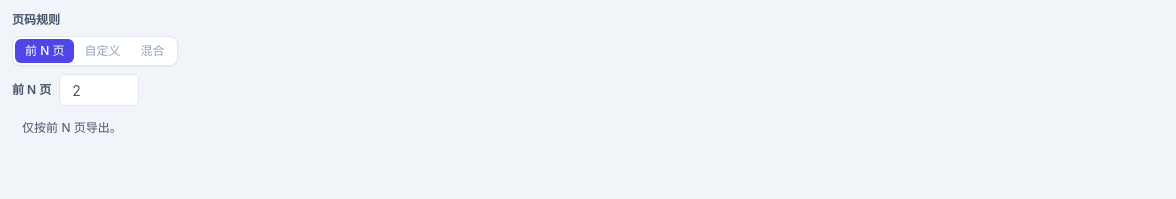
Scenario: PageRuleInput › 三种提示文案随模式切换
Expected: the text "仅按前 N 页导出。" is shown, [12,114,1164,142]
Click the button "自定义". click: (102, 51)
box: [74,39,130,63]
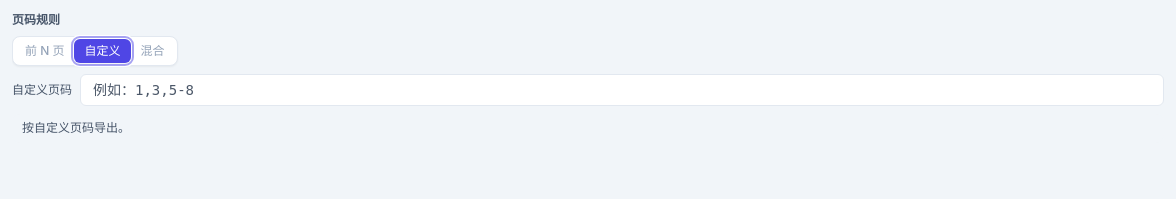
Expected: the text "按自定义页码导出。" is shown, [12,114,1164,142]
Click the button "混合". click: (152, 51)
box: [130,39,174,63]
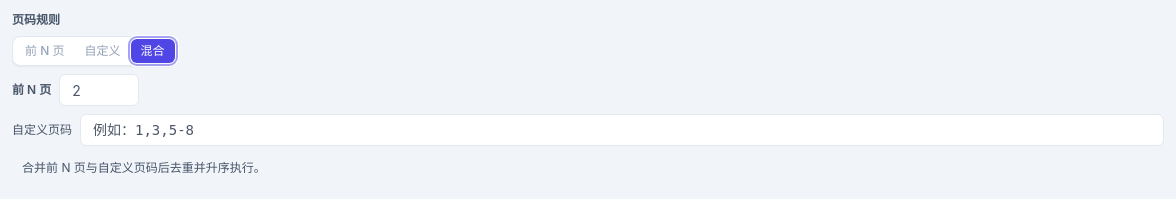
Expected: the text "合并前 N 页与自定义页码后去重并升序执行。" is shown, [12,154,1164,182]
